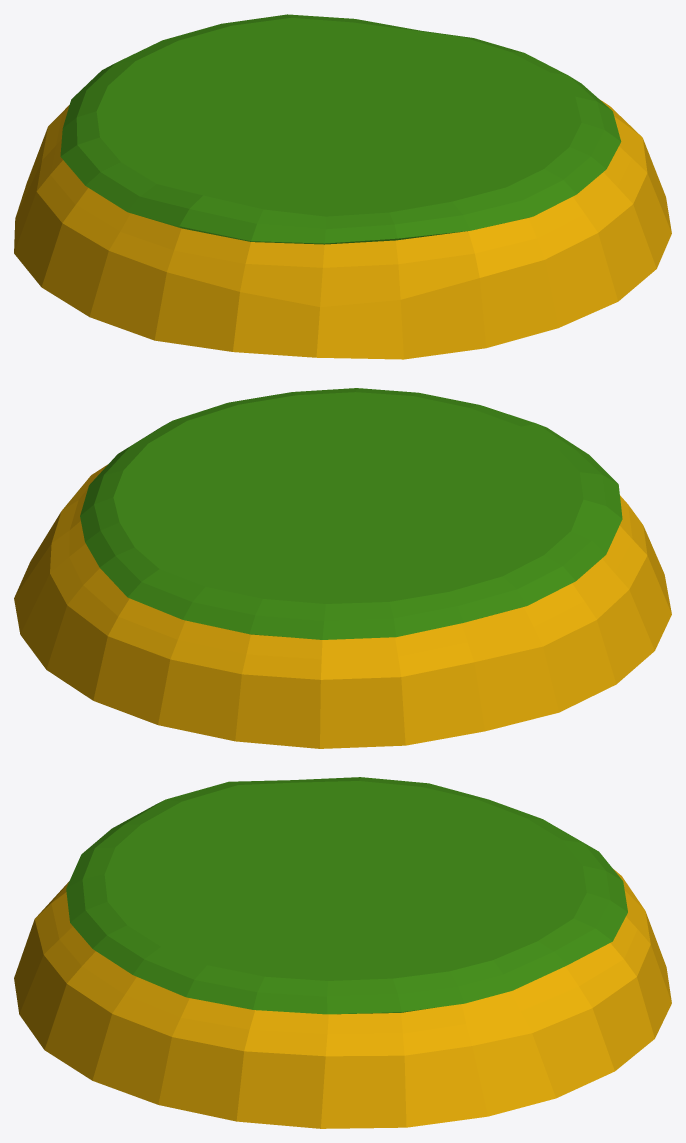
The model's file is Island.fbx.
3 renders of one model, top to bottom at view 1: azimuth 30°, elevation 25°; view 2: azimuth 150°, elevation 25°; view 3: azimuth 270°, elevation 25°, orthographic.
Parts seen in each view (by area): view 1: Cylinder; view 2: Cylinder; view 3: Cylinder.
Boxes of the visible parts, box(x1,y1,x2,y2) form: Cylinder: box(14, 14, 671, 359); Cylinder: box(14, 388, 671, 748); Cylinder: box(14, 777, 671, 1128).
Bounding box in the file's own units: 232 × 45.59 × 232.
